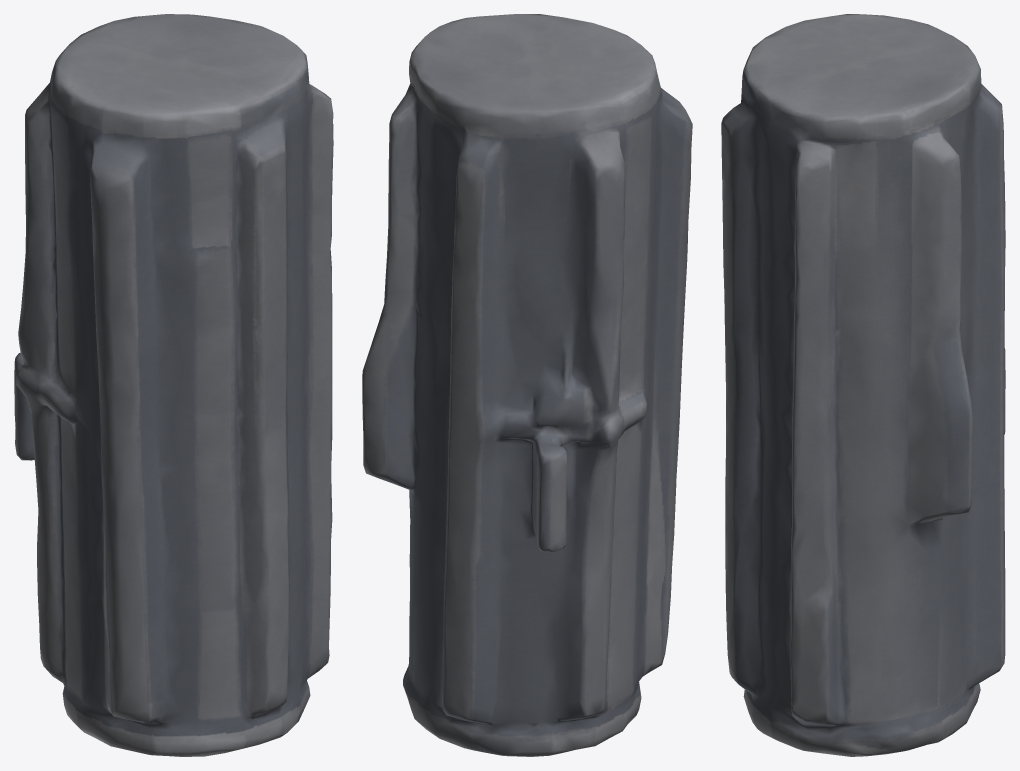
File: scrapper_roller_candidate.glb
3 views of the same model, side by side, from view 1: azimuth 30°, elevation 25°; view 2: azimuth 150°, elevation 25°; view 3: azimuth 270°, elevation 25° (orthographic).
Visible parts, largest first — view 1: scrapper_roller_candidate; view 2: scrapper_roller_candidate; view 3: scrapper_roller_candidate.
Part boxes in pixels (<box>): scrapper_roller_candidate: <box>14,14,333,756</box>; scrapper_roller_candidate: <box>362,14,692,756</box>; scrapper_roller_candidate: <box>721,14,1005,756</box>.
Bounding box in the file's own units: 0.4 × 1 × 0.4.
Materials: 1 (1 with a texture image).
